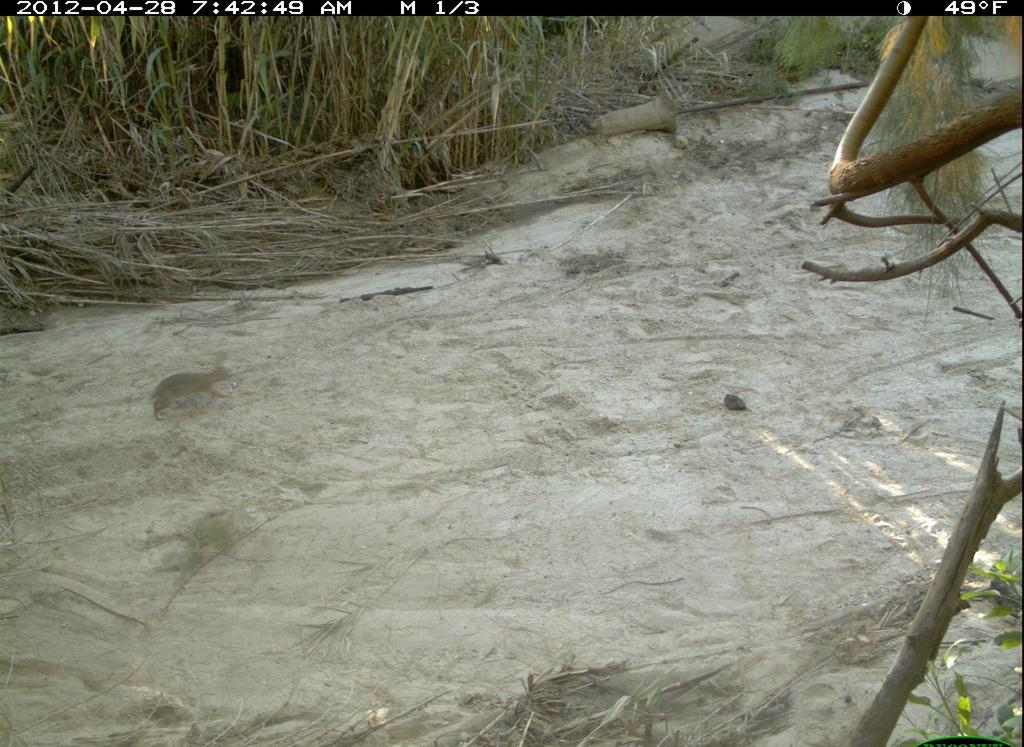rabbit: (149, 337, 226, 433)
